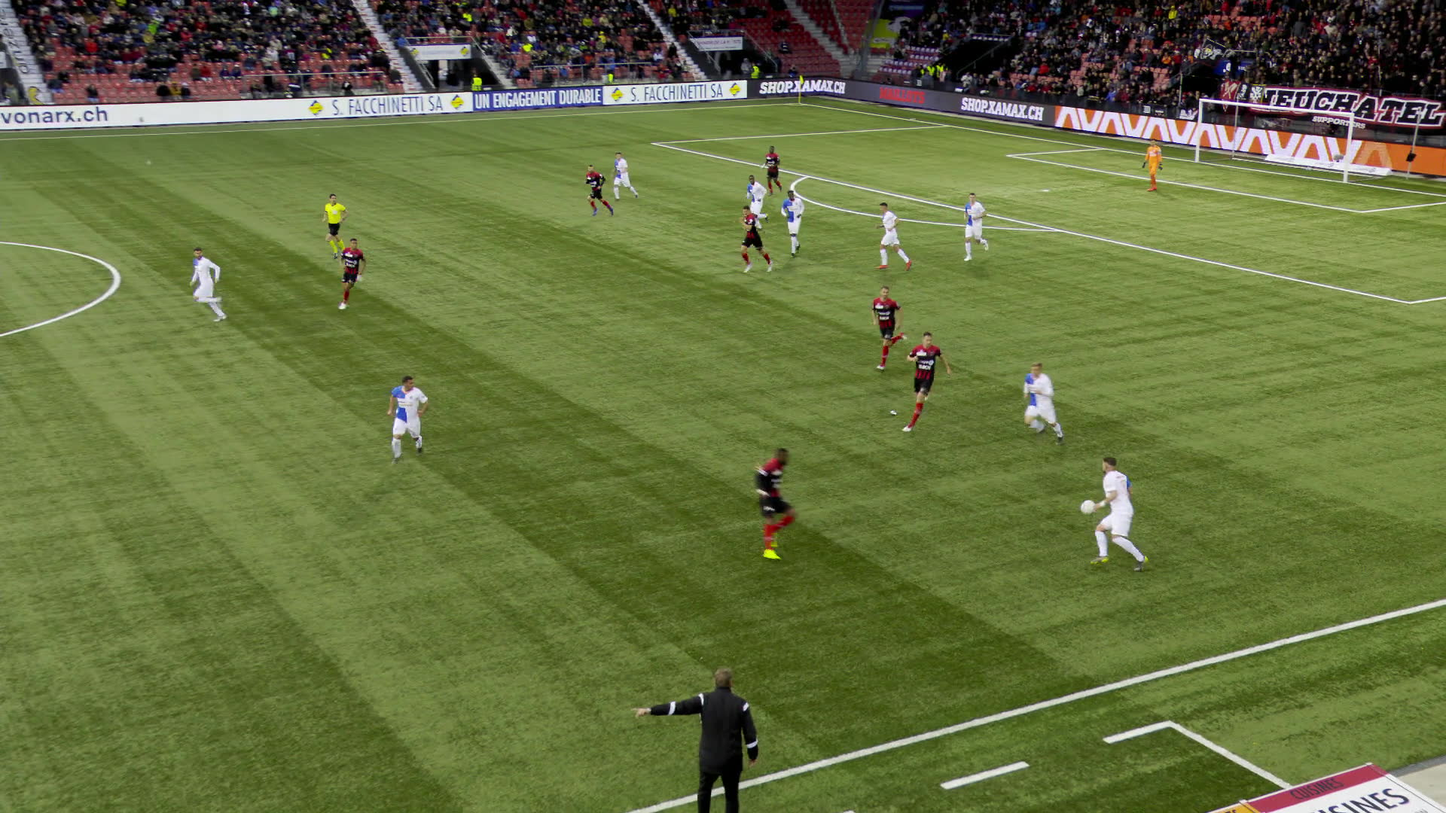ball: (1080, 496, 1100, 514)
player: (1091, 456, 1149, 572), (741, 445, 789, 562), (905, 330, 953, 433), (387, 374, 429, 464), (1022, 361, 1064, 447), (187, 246, 232, 323), (871, 284, 907, 369), (333, 234, 368, 312), (874, 202, 911, 272), (738, 204, 773, 276), (962, 192, 988, 262), (778, 188, 804, 257), (584, 162, 613, 217), (609, 151, 639, 202), (1140, 137, 1162, 193), (746, 175, 771, 224), (761, 144, 782, 193)
referee: (319, 193, 348, 261)
